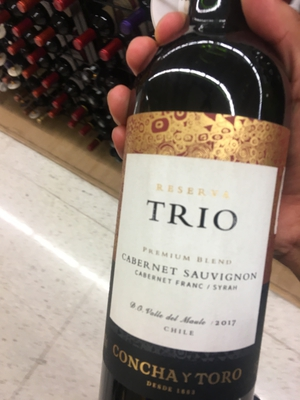trio cabernet sauvignon: (96, 13, 289, 400)
